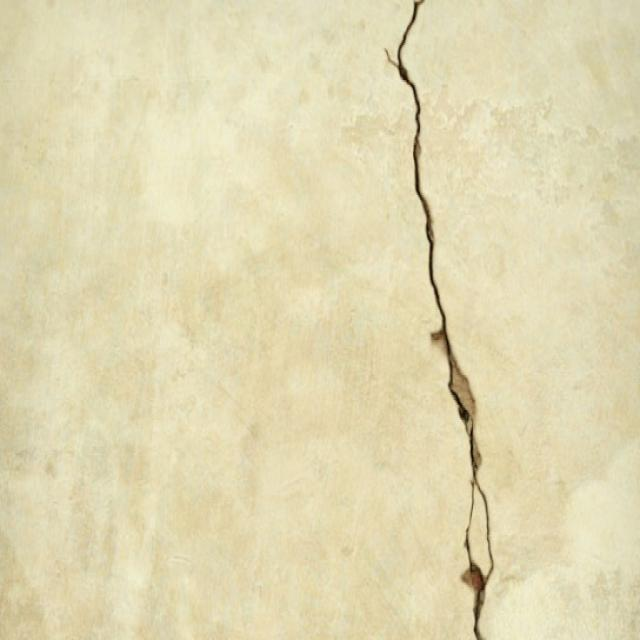Annular: (456, 474, 514, 594)
Longitudinal: (408, 122, 486, 472), (467, 604, 506, 640)
Radial: (367, 0, 436, 122)
